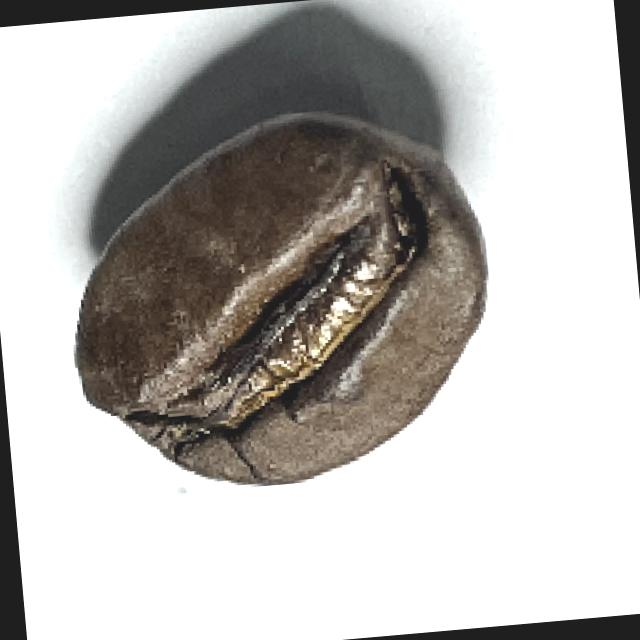bean: (51, 102, 506, 504)
